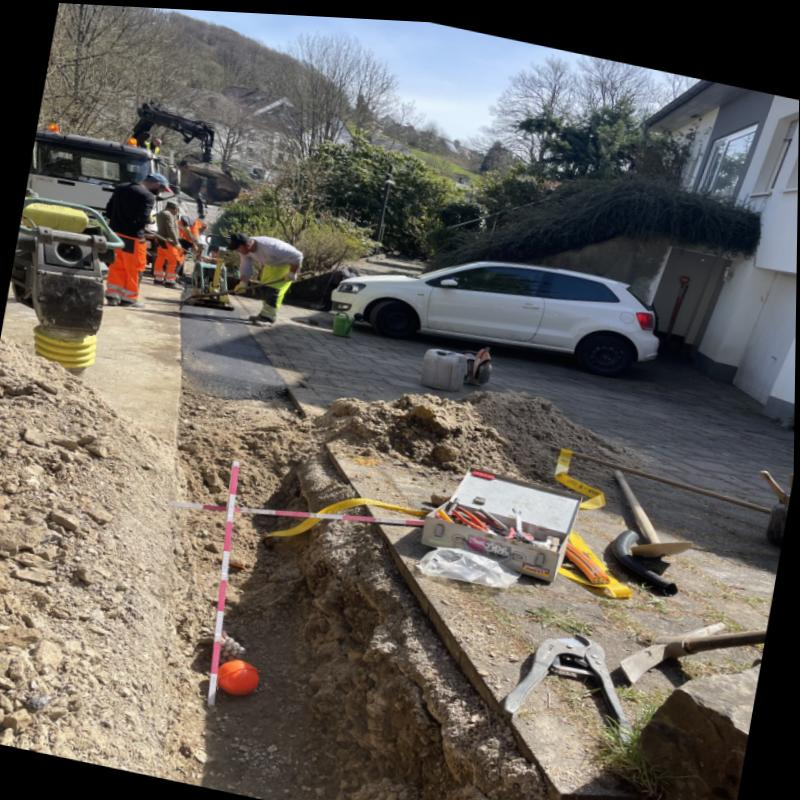Kugelmarker: (218, 658, 259, 692)
